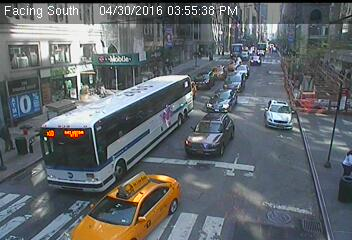neg: (314, 137, 342, 174), (188, 126, 208, 152), (155, 101, 173, 126), (202, 41, 219, 64), (14, 49, 31, 71), (58, 34, 73, 56), (107, 104, 123, 124), (298, 84, 313, 104), (236, 14, 251, 34), (16, 90, 31, 110), (114, 49, 128, 68), (242, 47, 256, 66), (61, 129, 74, 146), (293, 47, 306, 64), (272, 37, 282, 51), (271, 12, 281, 25), (257, 43, 266, 54)
